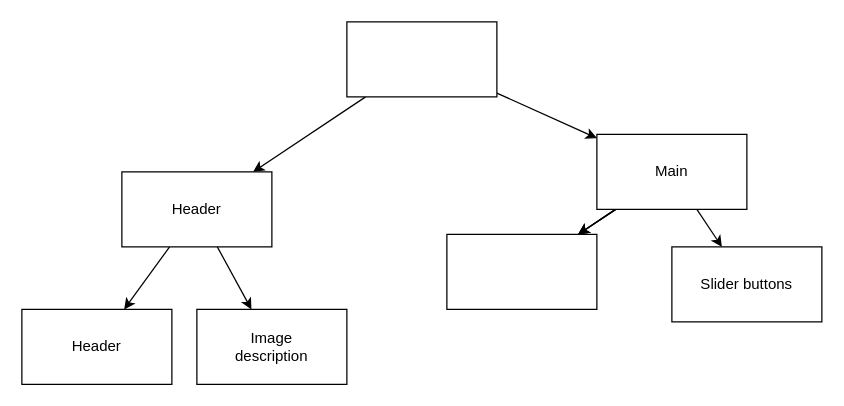
Some shapes in this 844 by 406 pixel diagram are drawn without their labels. Here are the shapes that lost their labels. From the top down, the box of each, then its label:
(346, 21, 497, 97): Body
(446, 233, 597, 309): DateTime
